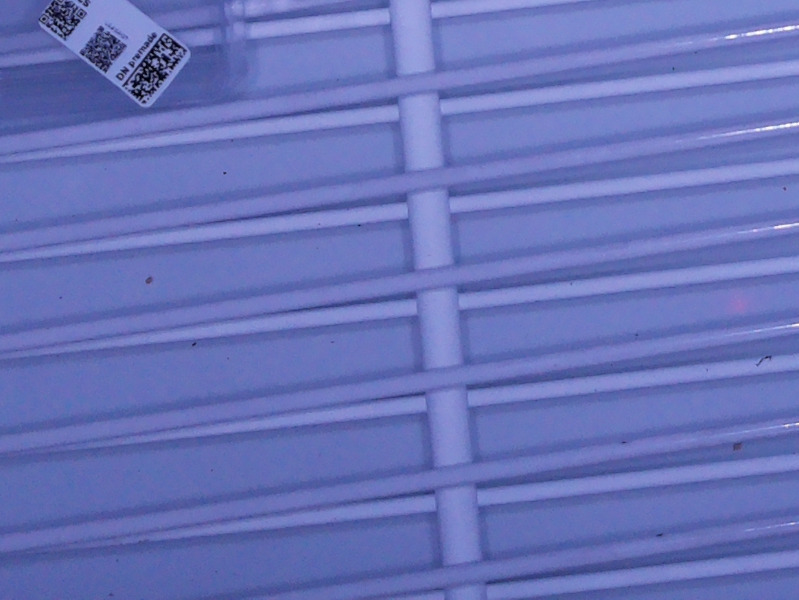plate: (1, 1, 253, 126)
